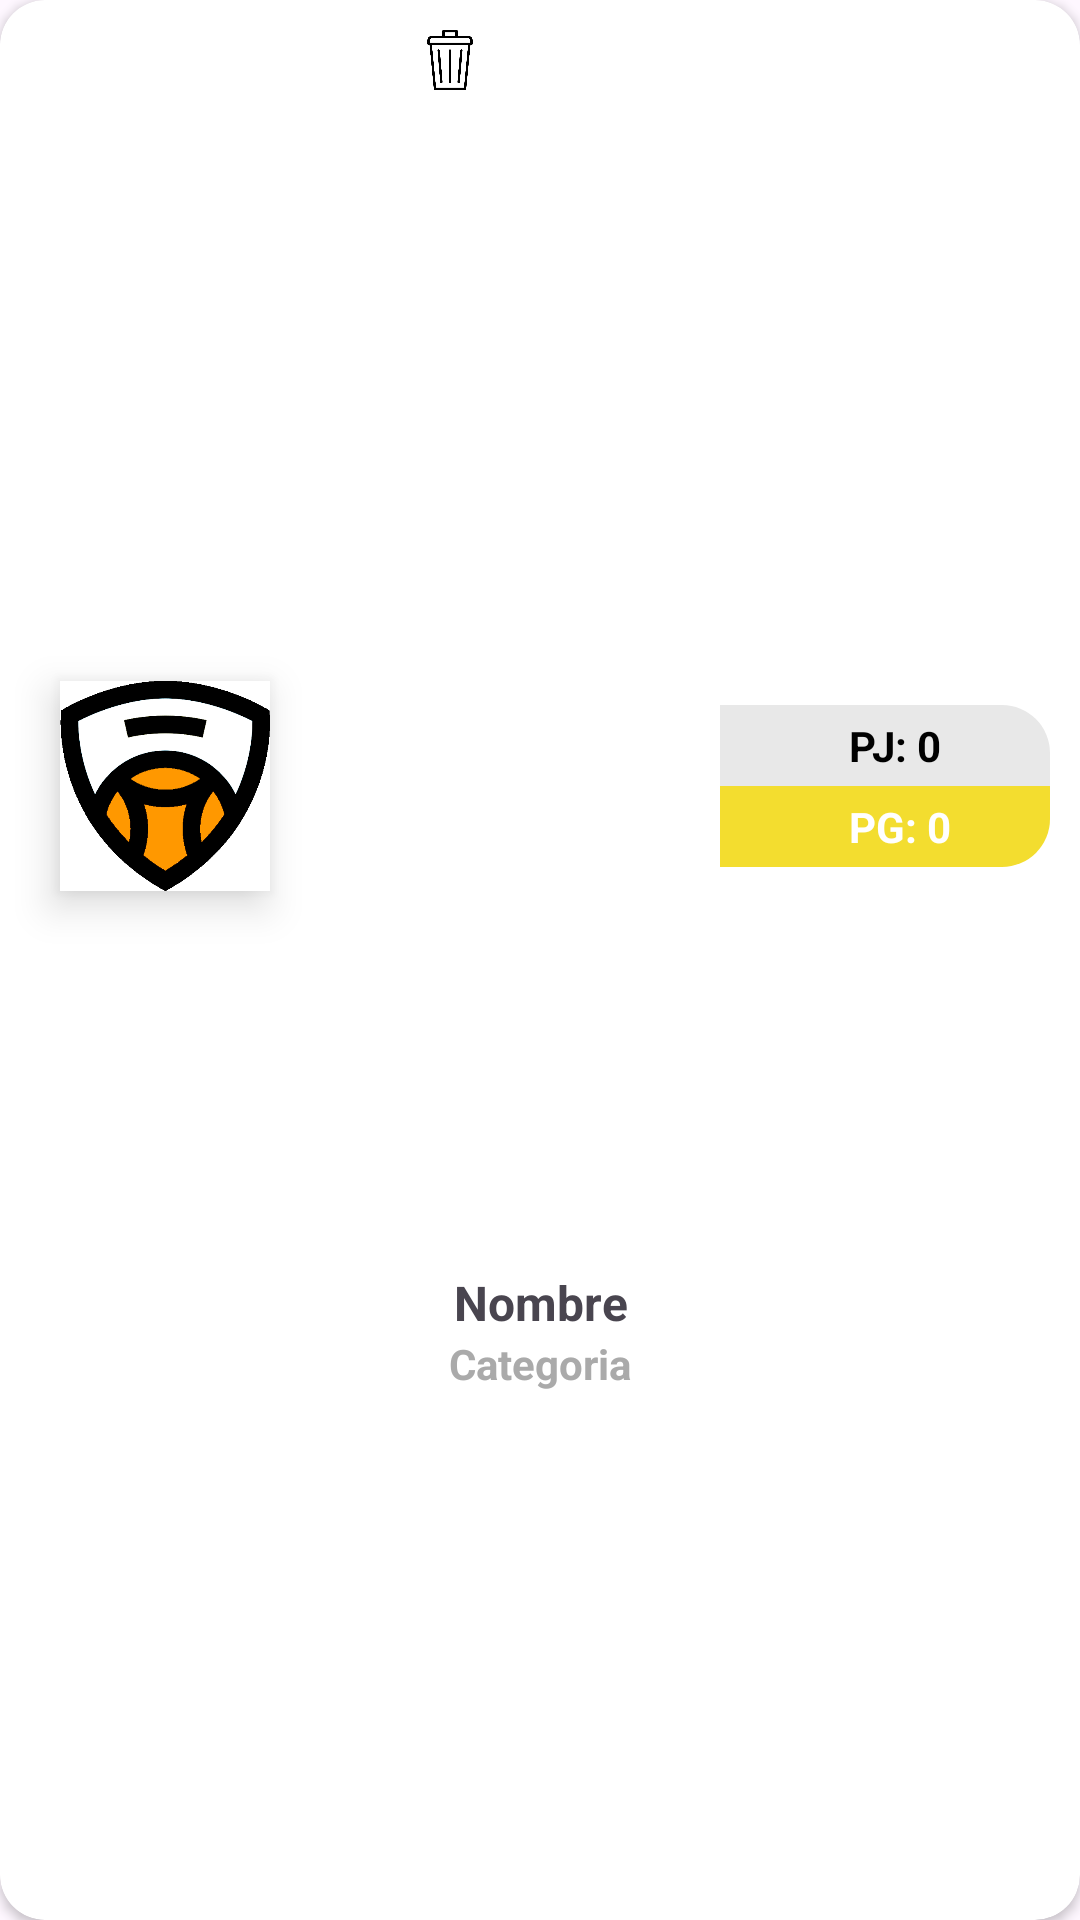

Where to tap for icons on this 1080×1920 app screen, as (x,y):
papelera: (450,60)
